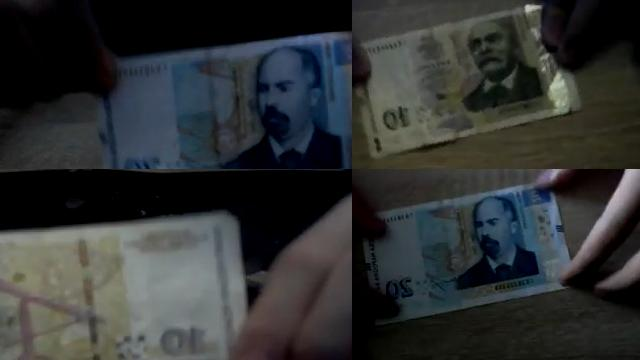10leva: (0, 215, 247, 360), (361, 4, 582, 161)
20leva: (132, 15, 352, 169), (354, 185, 570, 326)
